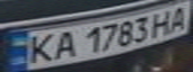1: (78, 24, 103, 55)
3: (130, 14, 154, 43)
7: (100, 20, 121, 52)
8: (115, 17, 139, 47)
A: (48, 28, 81, 61), (163, 3, 193, 34)
H: (148, 8, 178, 37)
K: (21, 30, 60, 65)
